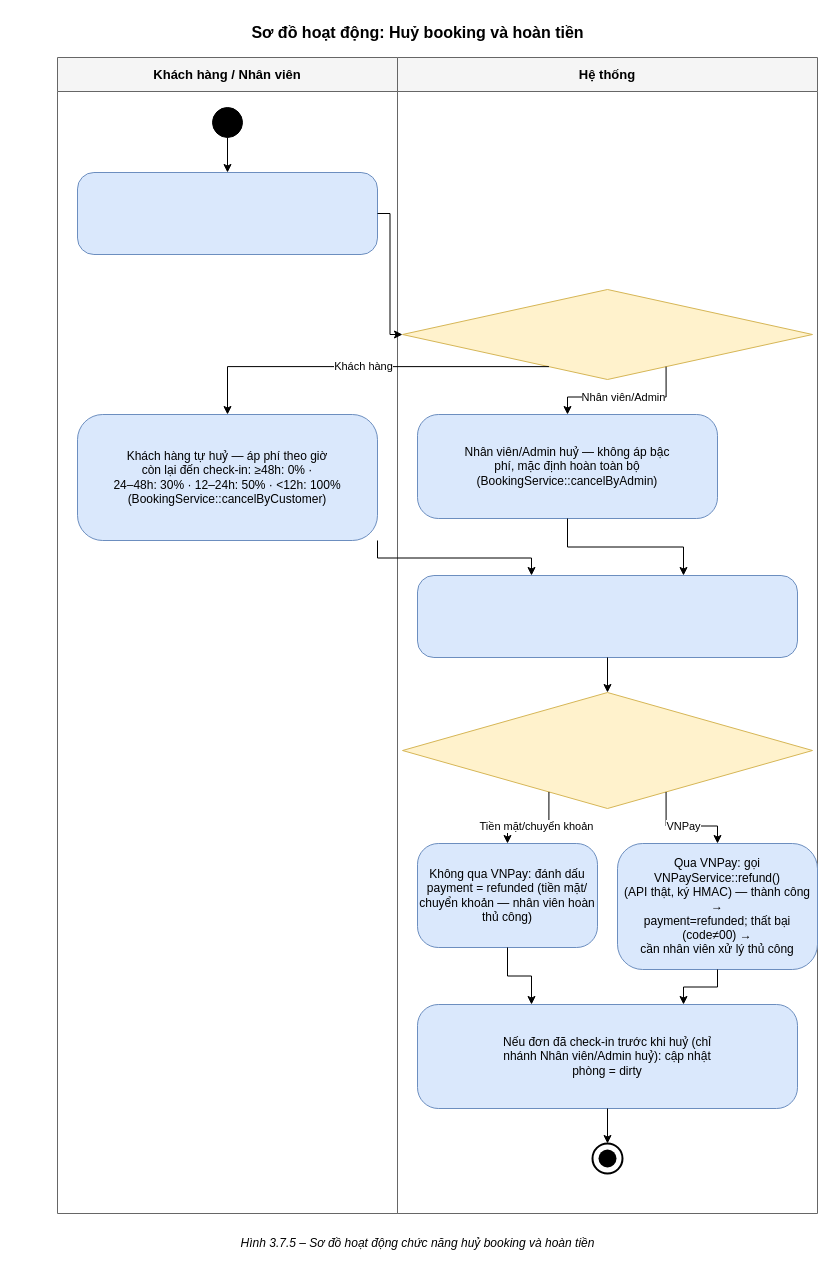
Image size: 835x1275. Some labels were removed from this diagram. Each missing label, with the centre of its shape:
"Cập nhật booking = cancelled, ghi booking_status_logs, gửi thông báo cho khách" belongs at (x=607, y=616).
"Khách hàng hoặc Nhân viên/Admin chọn Huỷ đặt phòng" belongs at (x=227, y=213).
"Người thực hiện huỷ là ai?" belongs at (x=607, y=334).
"Đã thu tiền & còn số tiền cần hoàn?" belongs at (x=607, y=750).
